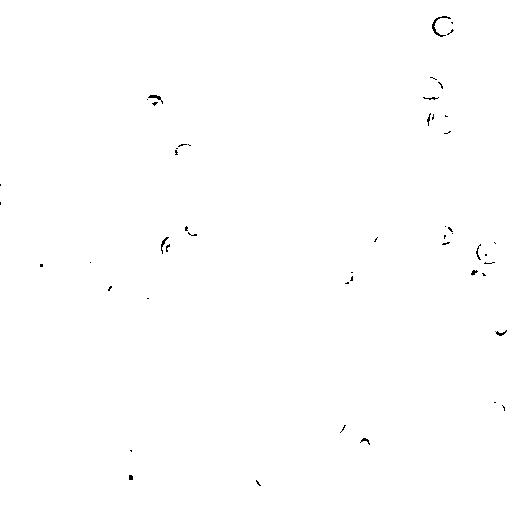micro-algae: (2, 37, 72, 105), (161, 382, 221, 441), (76, 248, 128, 301), (249, 460, 299, 508), (108, 469, 163, 511), (451, 59, 497, 101), (226, 31, 260, 62), (425, 106, 458, 136), (115, 459, 145, 489), (385, 285, 414, 315), (475, 237, 505, 265), (419, 452, 447, 480), (160, 233, 186, 263), (26, 251, 53, 279), (415, 74, 445, 99), (346, 355, 374, 381), (172, 139, 199, 165), (45, 397, 69, 423), (61, 457, 87, 481), (431, 221, 455, 245), (143, 244, 168, 267), (431, 15, 457, 37), (465, 269, 489, 292), (332, 263, 357, 285), (253, 421, 276, 443), (255, 465, 277, 487), (145, 91, 165, 115), (447, 279, 473, 297), (31, 420, 53, 441), (140, 292, 161, 313), (177, 39, 197, 61), (182, 400, 199, 424), (39, 118, 56, 137), (87, 258, 104, 277), (488, 400, 507, 417), (492, 317, 509, 336), (183, 221, 203, 237), (373, 231, 389, 251), (125, 446, 142, 463), (391, 240, 407, 256), (107, 283, 122, 299), (331, 419, 347, 434), (393, 0, 419, 9), (2, 183, 11, 205), (358, 437, 372, 451), (149, 0, 165, 11)
